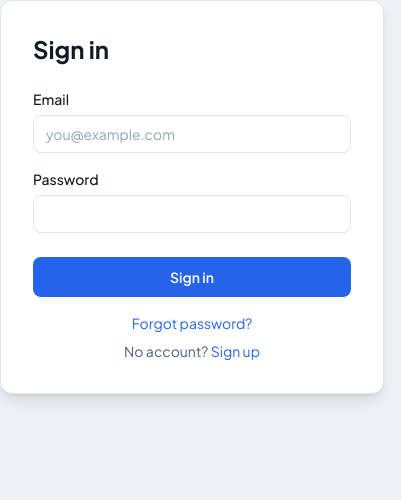
it: LoginPage — RATE_LIMITED error › shows "Too many attempts" for RATE_LIMITED (429) detail
The width and height of the screenshot is (401, 500).
Type "a@b.com" into the field labelled "Email" at coordinates (192, 134), box [33,115,351,153]
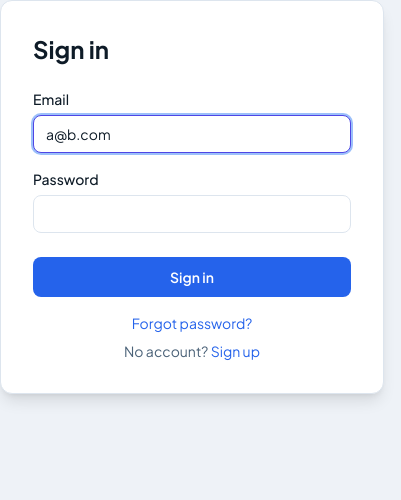
Type "pw" into the password field labelled "Password" at coordinates (192, 214), box [33,195,351,233]
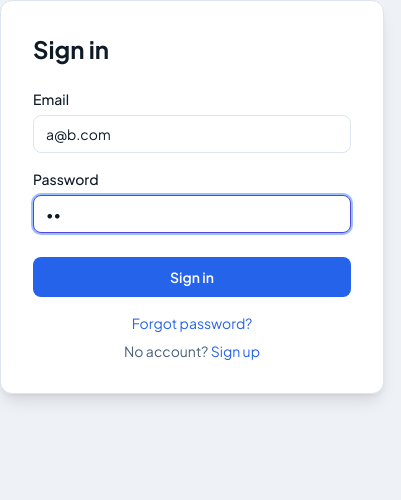
Click the button "Sign in" at coordinates (192, 277), box [33,257,351,297]
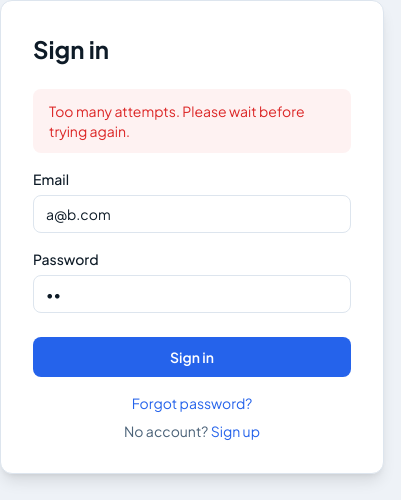
Now the message shows "Too many attempts", box [49,102,305,140]
